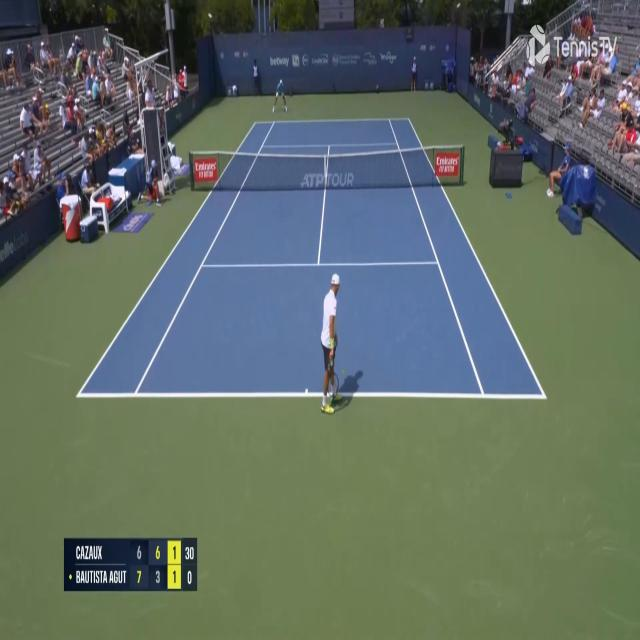tennis-player: (317, 270, 366, 416), (270, 77, 290, 114)
